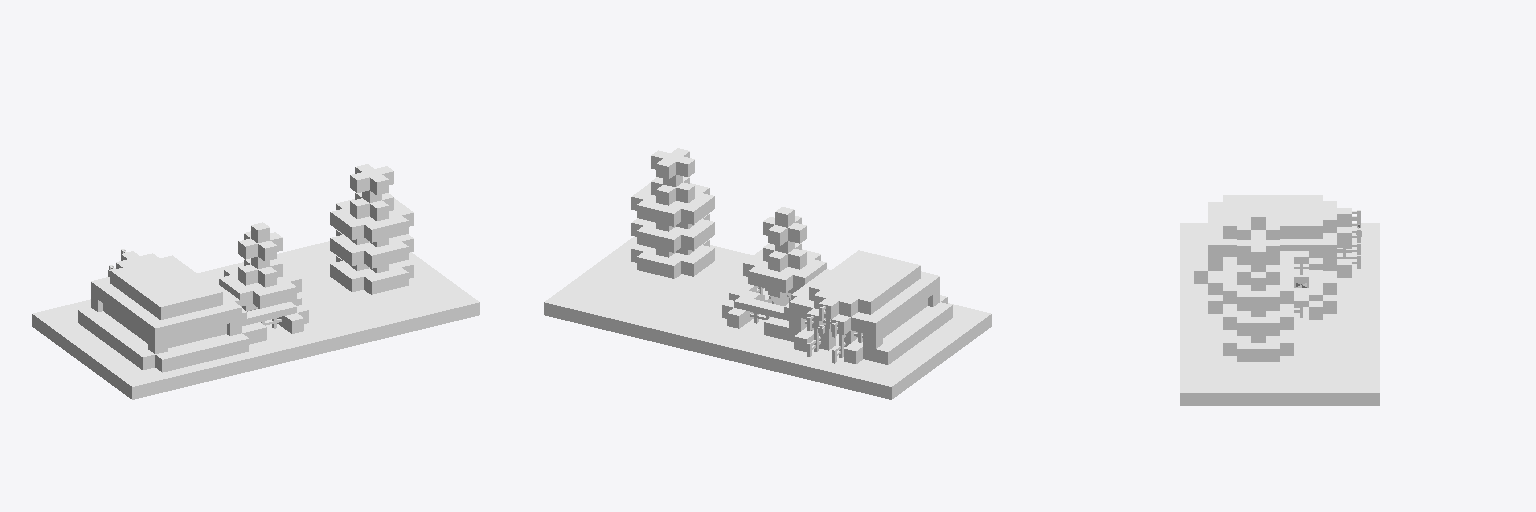
The model's file is Mine.obj.
3 renders of one model, left to right at view 1: azimuth 30°, elevation 25°; view 2: azimuth 150°, elevation 25°; view 3: azimuth 270°, elevation 25°, orthographic.
Visible parts, largest first — view 1: New_World_(3)__-256_3_-244_to_-229_255_-231; view 2: New_World_(3)__-256_3_-244_to_-229_255_-231; view 3: New_World_(3)__-256_3_-244_to_-229_255_-231.
Part boxes in pixels (x1,y1,x2,y2): New_World_(3)__-256_3_-244_to_-229_255_-231: (32, 164, 479, 399); New_World_(3)__-256_3_-244_to_-229_255_-231: (544, 148, 991, 399); New_World_(3)__-256_3_-244_to_-229_255_-231: (1180, 195, 1379, 405).
Size of the model in its own units: 28 by 10 by 14.